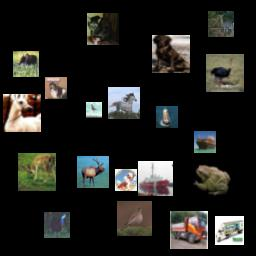bird: (206, 54, 244, 92), (117, 201, 152, 236), (44, 212, 70, 238), (86, 102, 102, 118)
cat: (87, 13, 119, 45), (45, 77, 67, 99)
deer: (18, 153, 56, 191), (77, 156, 109, 188), (13, 51, 39, 77), (208, 11, 234, 37)
dog: (152, 35, 190, 73), (115, 169, 137, 191)
frog: (193, 159, 231, 197)
ship: (138, 161, 173, 196), (156, 106, 178, 128), (194, 131, 216, 153)
truck: (170, 211, 208, 249), (215, 216, 244, 245)
